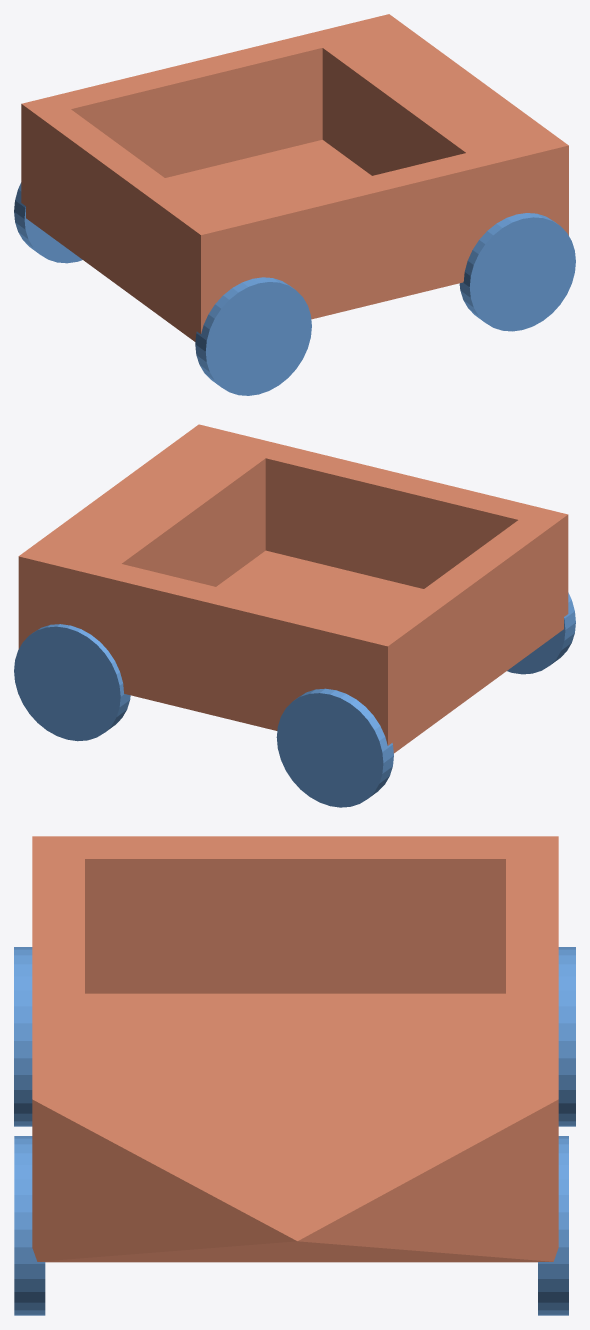
The model's file is car_test.fbx.
3 renders of one model, top to bottom at view 1: azimuth 30°, elevation 25°; view 2: azimuth 150°, elevation 25°; view 3: azimuth 270°, elevation 25°, orthographic. The views are drawn at different scales.
Visible parts, largest first — view 1: Cube, Cylinder, Cylinder.001; view 2: Cube, Cylinder, Cylinder.001; view 3: Cube, Cylinder.001, Cylinder.
Boxes of the visible parts, box(x1,y1,x2,y2) form: Cube: box(21, 14, 568, 341); Cylinder: box(14, 182, 311, 395); Cylinder.001: box(459, 213, 575, 331); Cube: box(18, 424, 568, 753); Cylinder: box(276, 592, 575, 807); Cylinder.001: box(14, 624, 130, 741); Cube: box(32, 836, 558, 1262); Cylinder.001: box(14, 1136, 568, 1315); Cylinder: box(14, 947, 575, 1126).
Size of the model in its own units: 781 by 301 by 625.
